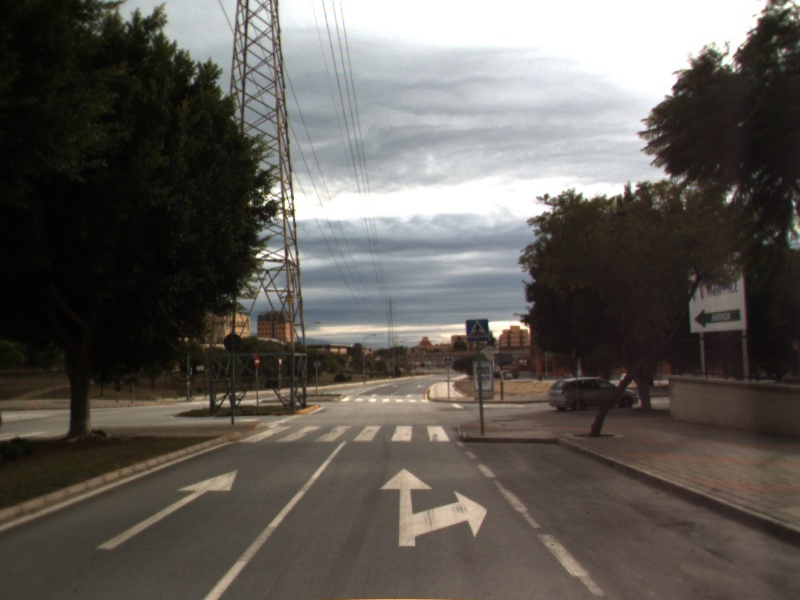STRAIGHT: (93, 467, 240, 552)
STRAIGHT_RIGHT: (377, 466, 490, 549)
